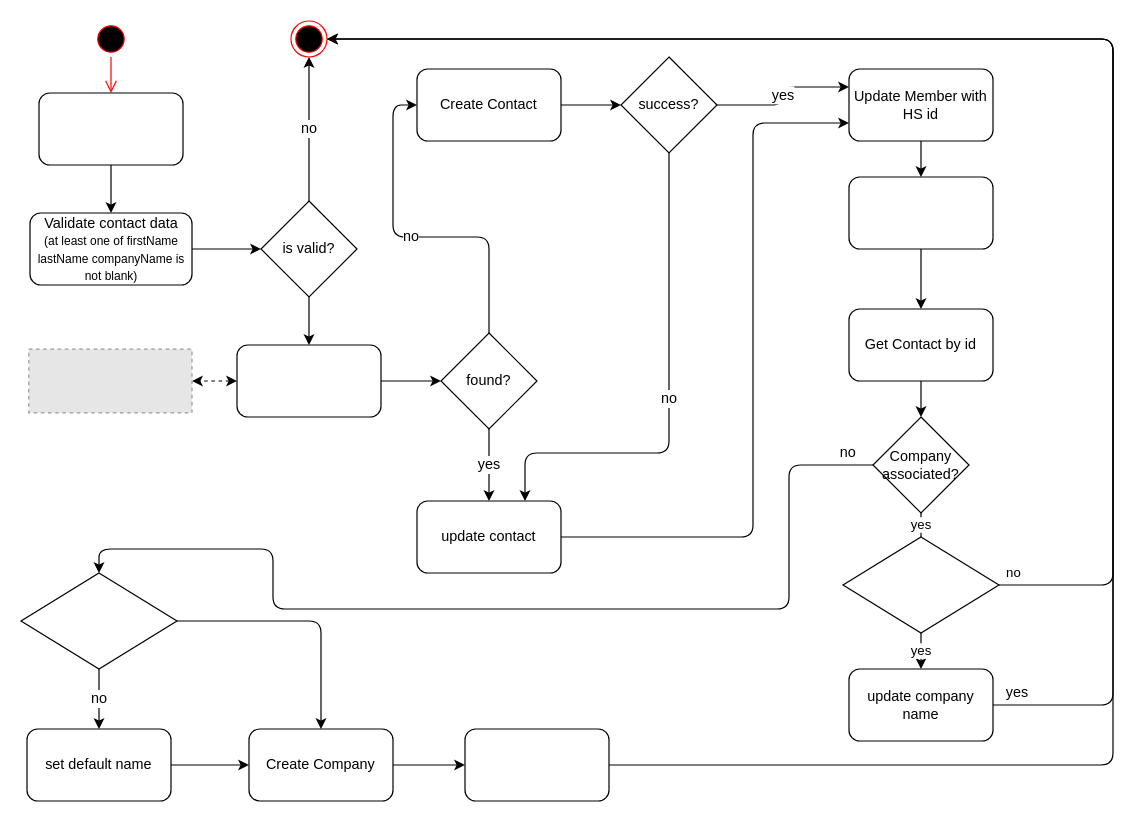
This 1144x822 diagram has some shape labels left out. Grey dashed boxes stand in for pictures. The box of each missing label's shape, as (x1, y1, x2, y2) in pixels:
Associate contact with company: (464, 728, 609, 801)
payload has companyName !=defaultName?: (842, 536, 999, 633)
payload has companyName?: (20, 572, 177, 669)
Read event payload: (38, 92, 183, 165)
search contact: (236, 344, 381, 417)
Wait for 5 seconds (give time to HS to link auto-defined company): (848, 176, 993, 249)
